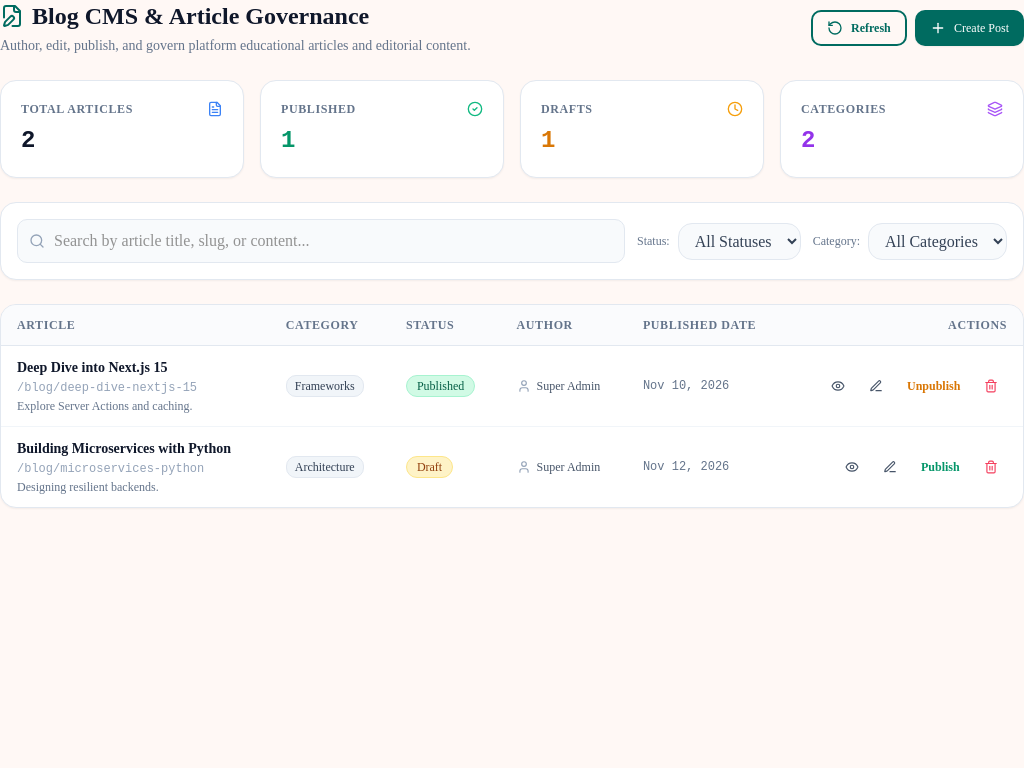
Test: Blog CMS Page (SA-04.2) › opens delete confirmation modal and deletes a blog post
Later steps or results of the test are not shown.
Expected: the text "Deep Dive into Next.js 15" is shown, [17, 360, 168, 375]
Click the button titled "Delete Article" in the row of "Deep Dive into Next.js 15" at (991, 386), box [975, 370, 1007, 402]
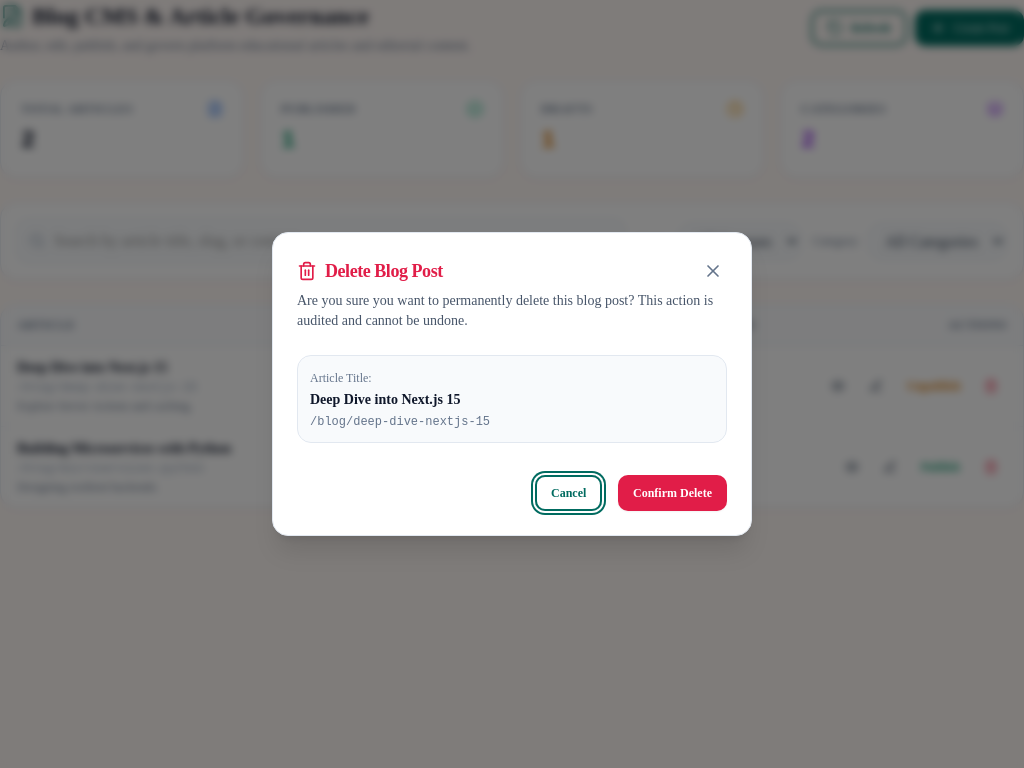
Now the heading "Delete Blog Post" is shown, box [297, 261, 443, 281]
